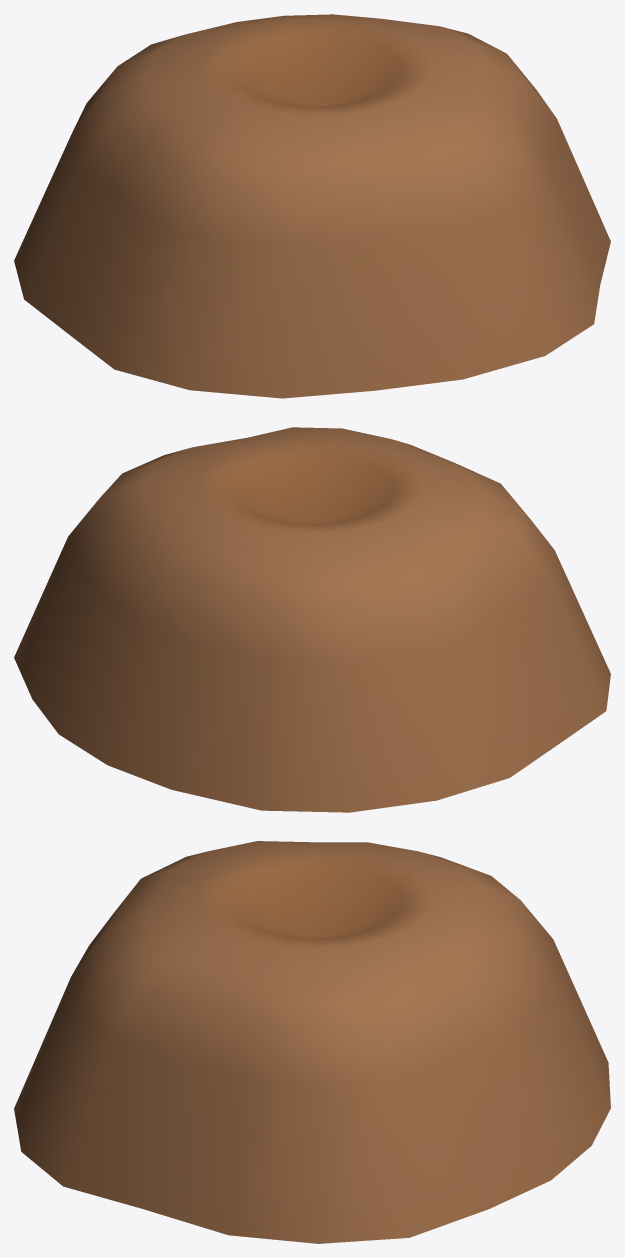
Rendered from DirtPile.fbx.
The picture shows the model from 3 angles, top to bottom: view 1: azimuth 30°, elevation 25°; view 2: azimuth 150°, elevation 25°; view 3: azimuth 270°, elevation 25°; orthographic projection. The views are drawn at different scales.
Parts seen in each view (by area): view 1: SoilSmall; view 2: SoilSmall; view 3: SoilSmall.
Part boxes in pixels (x1,y1,x2,y2): SoilSmall: (14, 14, 610, 398); SoilSmall: (14, 427, 610, 812); SoilSmall: (14, 841, 610, 1243).
Bounding box in the file's own units: 55.97 × 20.97 × 54.03.
